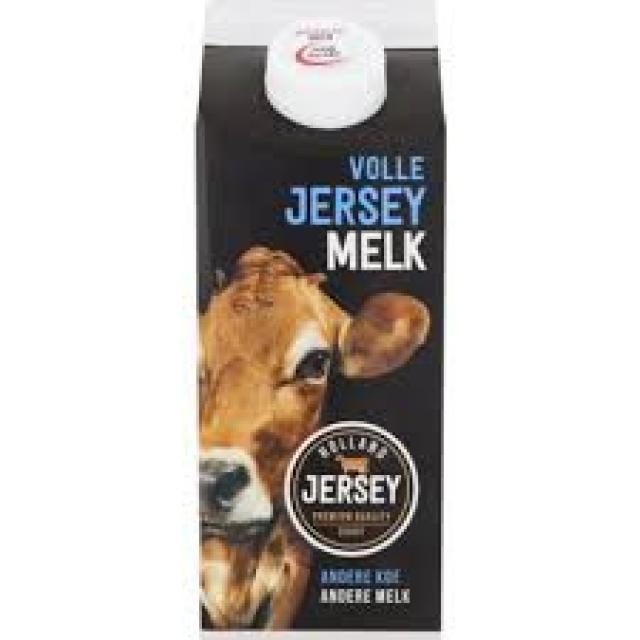milk: (176, 0, 482, 640)
